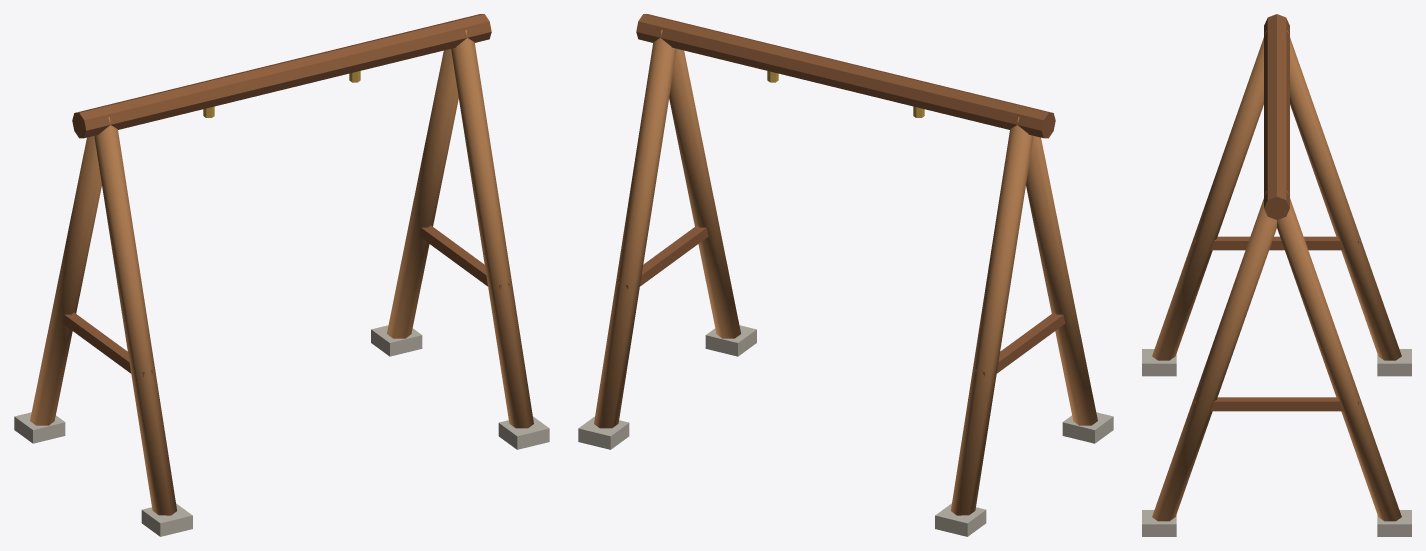
The model's file is xich-du.glb.
3 renders of one model, left to right at view 1: azimuth 30°, elevation 25°; view 2: azimuth 150°, elevation 25°; view 3: azimuth 270°, elevation 25°, orthographic. The views are drawn at different scales.
Parts seen in each view (by area): view 1: xich-du-0, xich-du-1, xich-du-3, xich-du-2; view 2: xich-du-0, xich-du-1, xich-du-3, xich-du-2; view 3: xich-du-0, xich-du-1, xich-du-2, xich-du-3.
Part boxes in pixels (x1=…): xich-du-0: x1=30, y1=30, x2=533, y2=515; xich-du-1: x1=72, y1=14, x2=491, y2=138; xich-du-3: x1=14, y1=325, x2=549, y2=536; xich-du-2: x1=62, y1=225, x2=509, y2=376; xich-du-0: x1=594, y1=30, x2=1097, y2=515; xich-du-1: x1=636, y1=14, x2=1055, y2=138; xich-du-3: x1=578, y1=325, x2=1113, y2=536; xich-du-2: x1=618, y1=225, x2=1065, y2=376; xich-du-0: x1=1152, y1=30, x2=1401, y2=521; xich-du-1: x1=1264, y1=14, x2=1289, y2=219; xich-du-2: x1=1195, y1=236, x2=1358, y2=411; xich-du-3: x1=1142, y1=349, x2=1411, y2=536.
Size of the model in its own units: 2.5 by 2.21 by 1.56.
